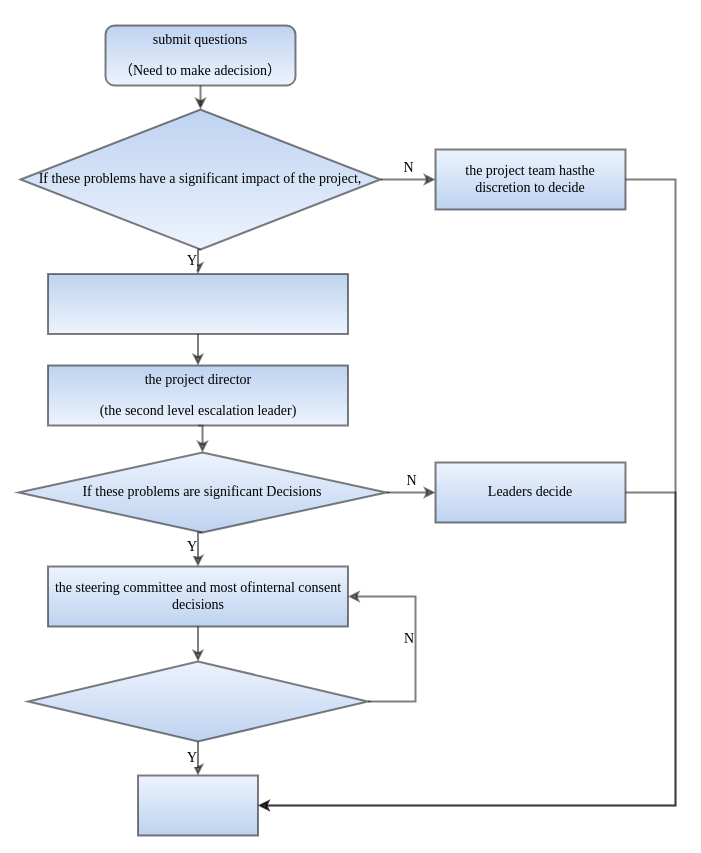
Some shapes in this 701 by 853 pixel diagram are drawn without their labels. The centre of each missing label's shape, as x and y in pixels:
carried out: [197,805]
Committee discussdecisions: [197,701]
the flying car projectmanager (the first level escalationleader): [197,303]
